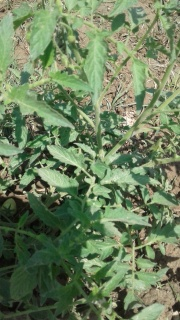tomato plant: (33, 166, 135, 298), (4, 8, 103, 118)
